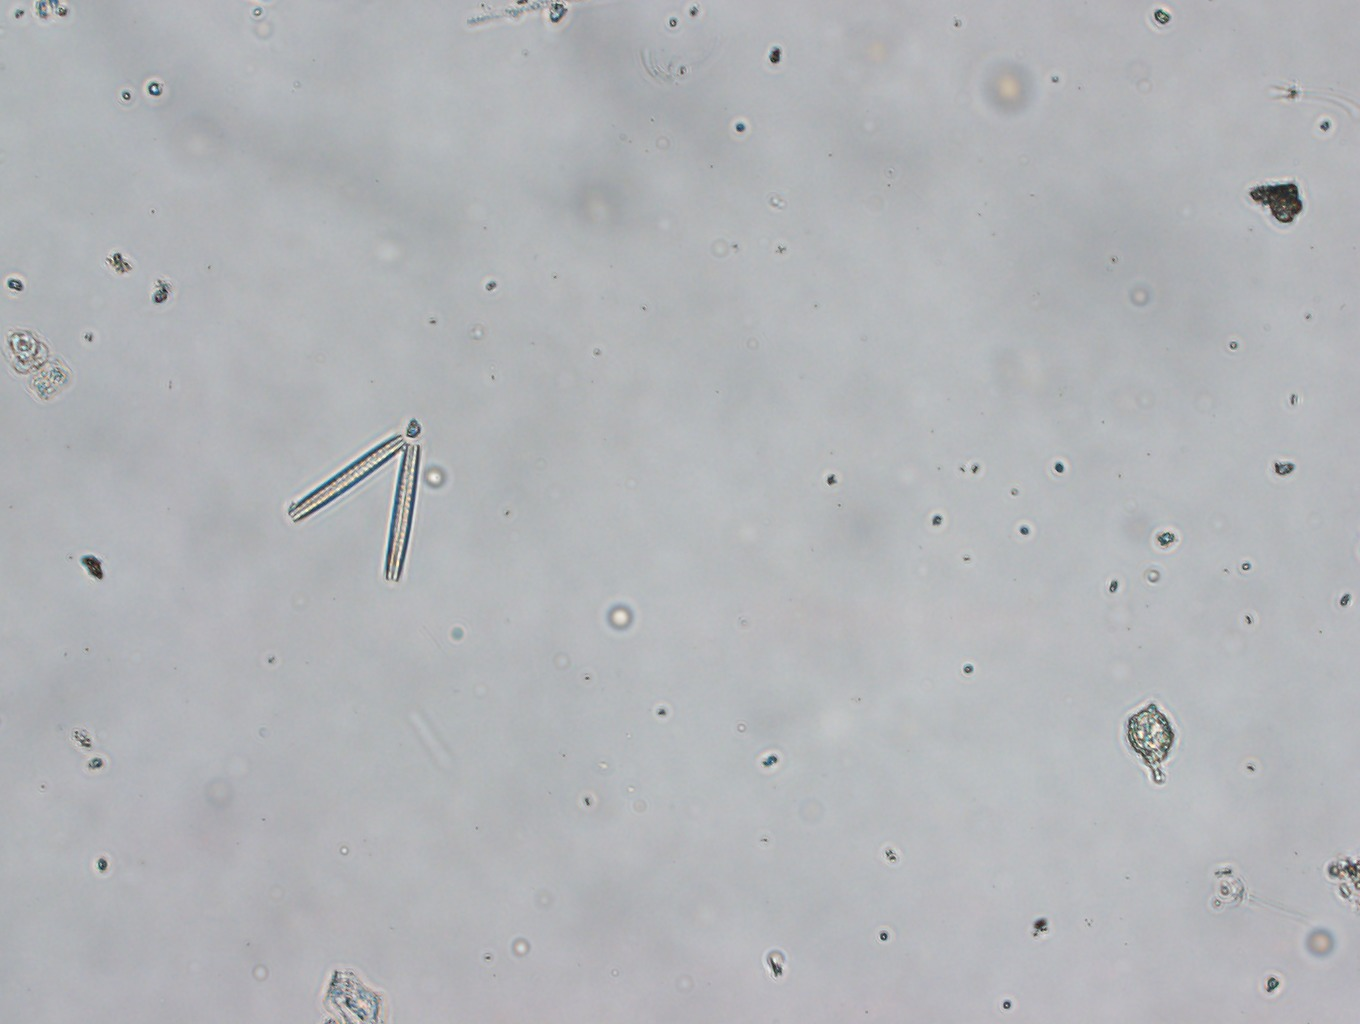thalassionema nitzschioides: (276, 418, 432, 591)
